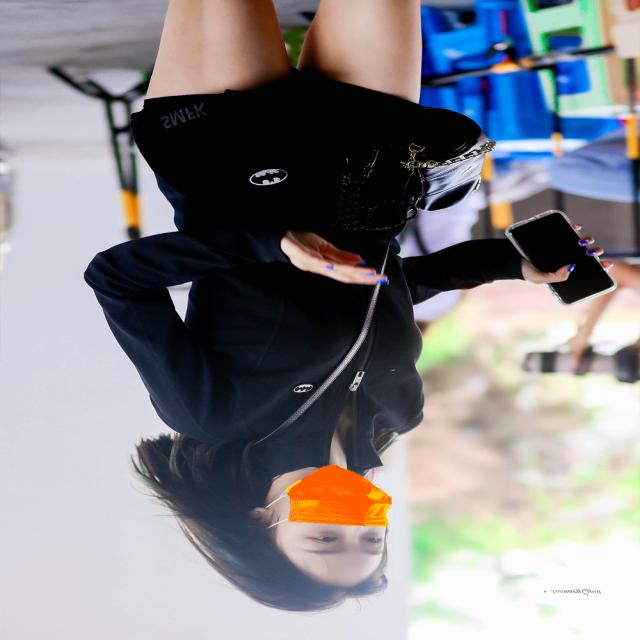mask: (257, 459, 403, 534)
